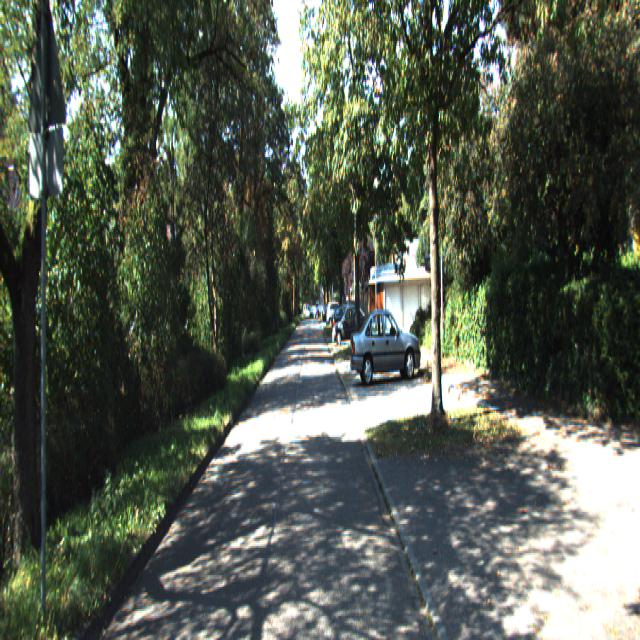Car: (349, 302, 422, 384), (333, 303, 367, 344)
